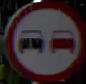No overtake: (2, 1, 85, 80)
